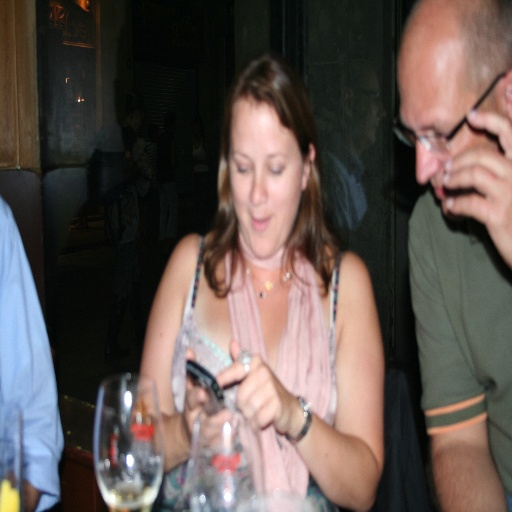hand: (440, 106, 511, 268), (217, 349, 313, 445), (178, 346, 241, 456)
